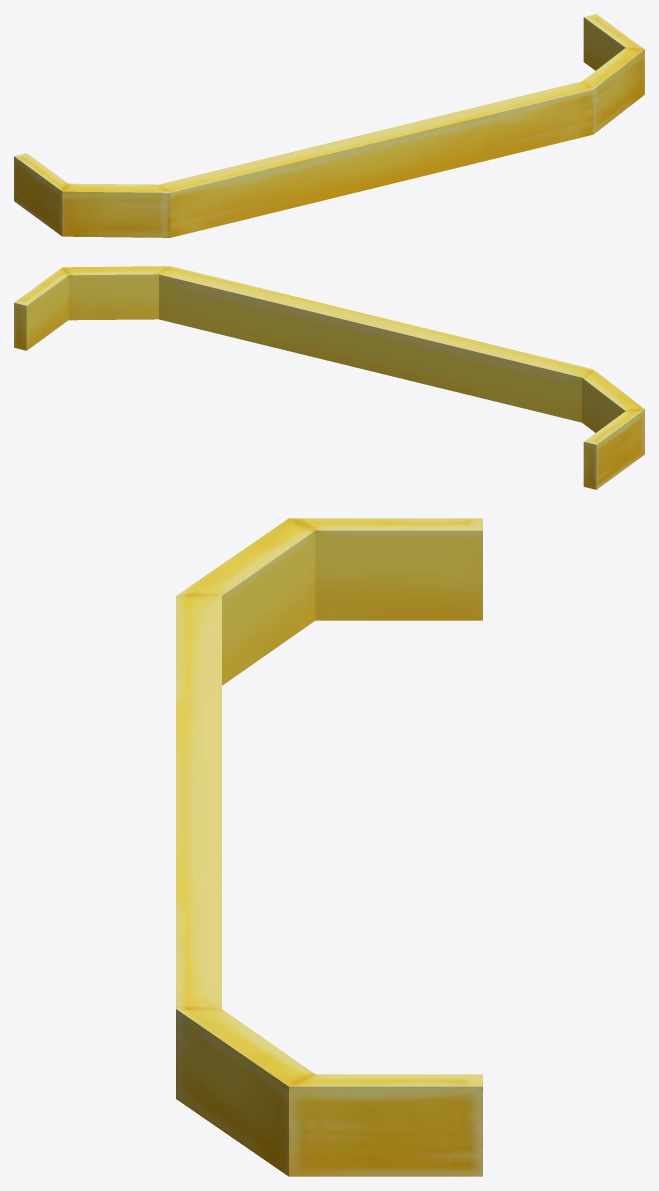
The model's file is flashboard.fbx.
The picture shows the model from 3 angles, top to bottom: view 1: azimuth 30°, elevation 25°; view 2: azimuth 150°, elevation 25°; view 3: azimuth 270°, elevation 25°; orthographic projection. The views are drawn at different scales.
Visible parts, largest first — view 1: flashboard; view 2: flashboard; view 3: flashboard.
Boxes of the visible parts, <box> form: flashboard: <box>14,14,644,237</box>; flashboard: <box>14,266,644,489</box>; flashboard: <box>176,518,482,1176</box>.
Size of the model in its own units: 42.98 by 3.17 by 9.8.
Materials: 1 (1 with a texture image).
